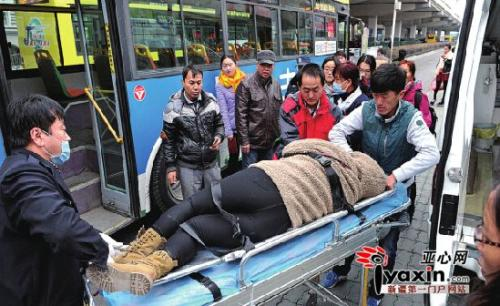10+: (1, 40, 500, 306)
down: (82, 135, 398, 300)
